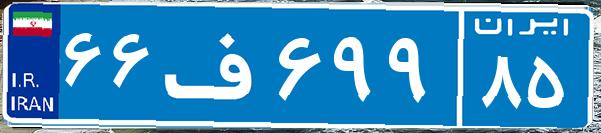5: (525, 38, 570, 115)
6: (273, 28, 330, 110), (57, 26, 110, 107), (110, 28, 158, 105)
8: (475, 38, 525, 113)
9: (385, 28, 445, 110), (330, 28, 385, 110)
ف: (158, 15, 273, 115)
